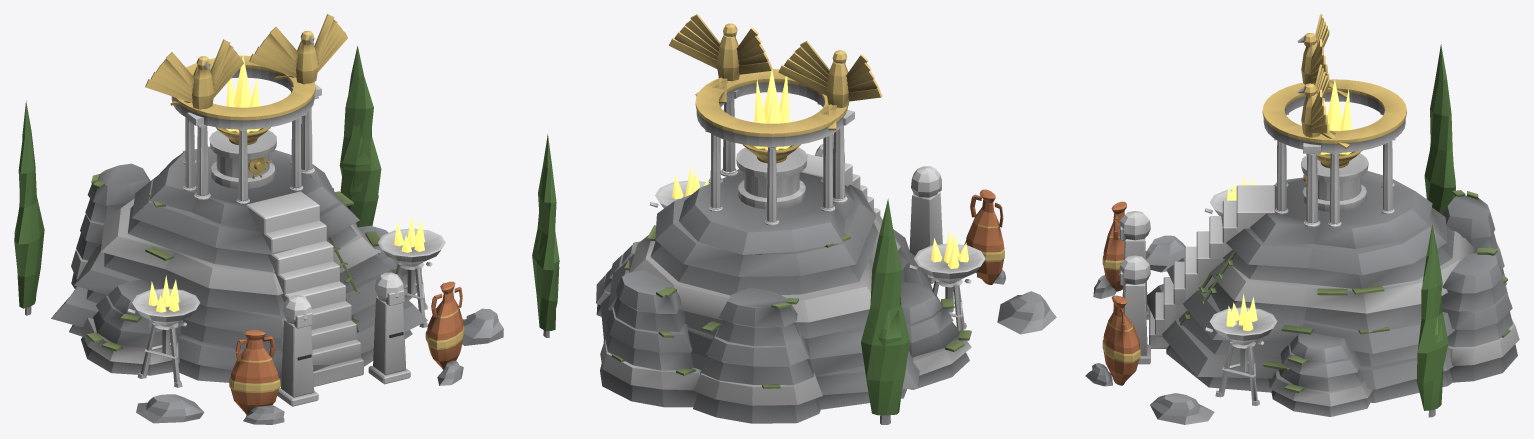
Rendered from altar-of-olympus-l2.glb.
3 views of the same model, side by side, from view 1: azimuth 30°, elevation 25°; view 2: azimuth 150°, elevation 25°; view 3: azimuth 270°, elevation 25° (orthographic). The views are drawn at different scales.
Visible parts, largest first — view 1: altar-of-olympus-l2; view 2: altar-of-olympus-l2; view 3: altar-of-olympus-l2.
Part boxes in pixels (x1,y1,x2,y2): altar-of-olympus-l2: (14,14,503,424); altar-of-olympus-l2: (532,14,1056,424); altar-of-olympus-l2: (1085,14,1519,424).
Size of the model in its own units: 1.49 by 1.12 by 1.55.
